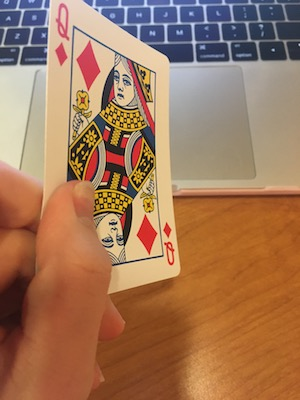QueenOfDiamonds: (33, 1, 184, 292)
